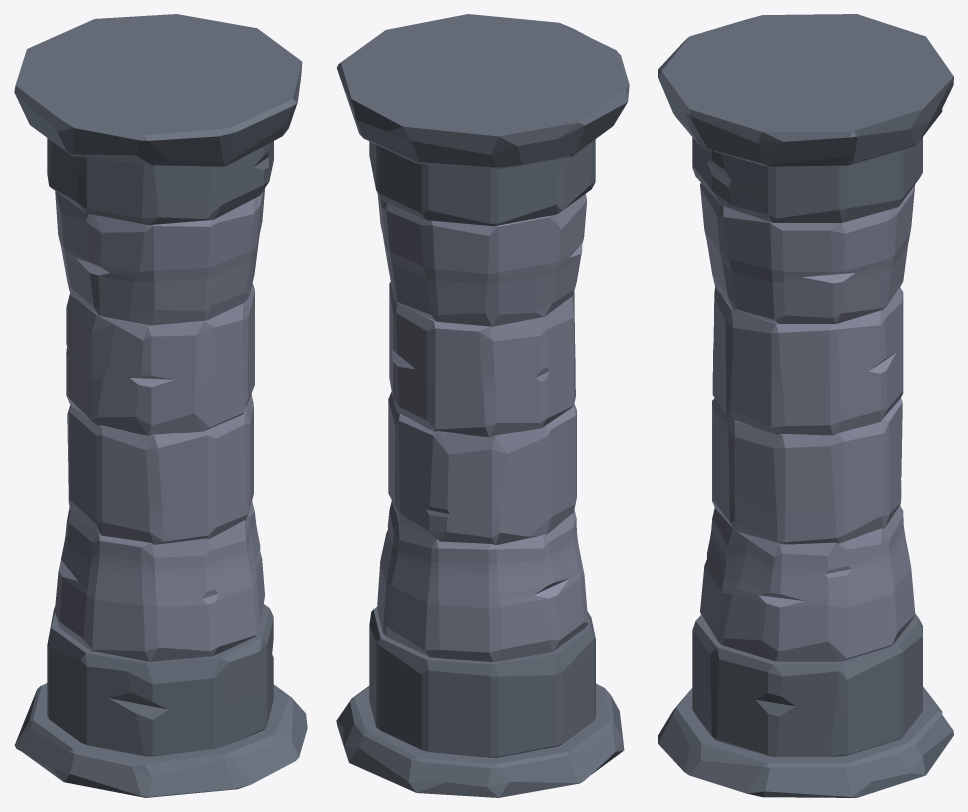
The model's file is Round_Column.fbx.
The picture shows the model from 3 angles, left to right: view 1: azimuth 30°, elevation 25°; view 2: azimuth 150°, elevation 25°; view 3: azimuth 270°, elevation 25°; orthographic projection.
Visible parts, largest first — view 1: Columna_Redonda; view 2: Columna_Redonda; view 3: Columna_Redonda.
Part boxes in pixels (x1,y1,x2,y2): Columna_Redonda: [14, 14, 307, 797]; Columna_Redonda: [336, 14, 629, 797]; Columna_Redonda: [658, 14, 953, 797].
Bounding box in the file's own units: 200 × 510 × 205.
